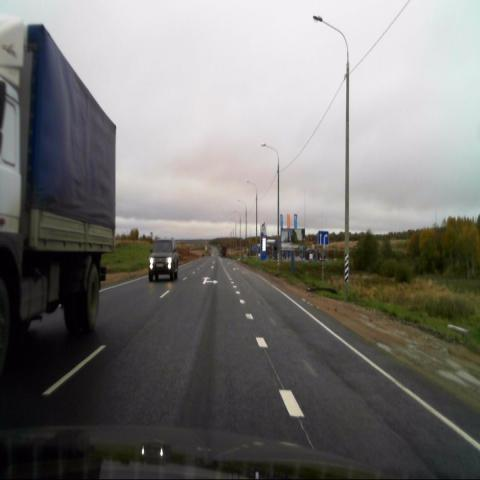5_15_2_2: (318, 230, 328, 244)
